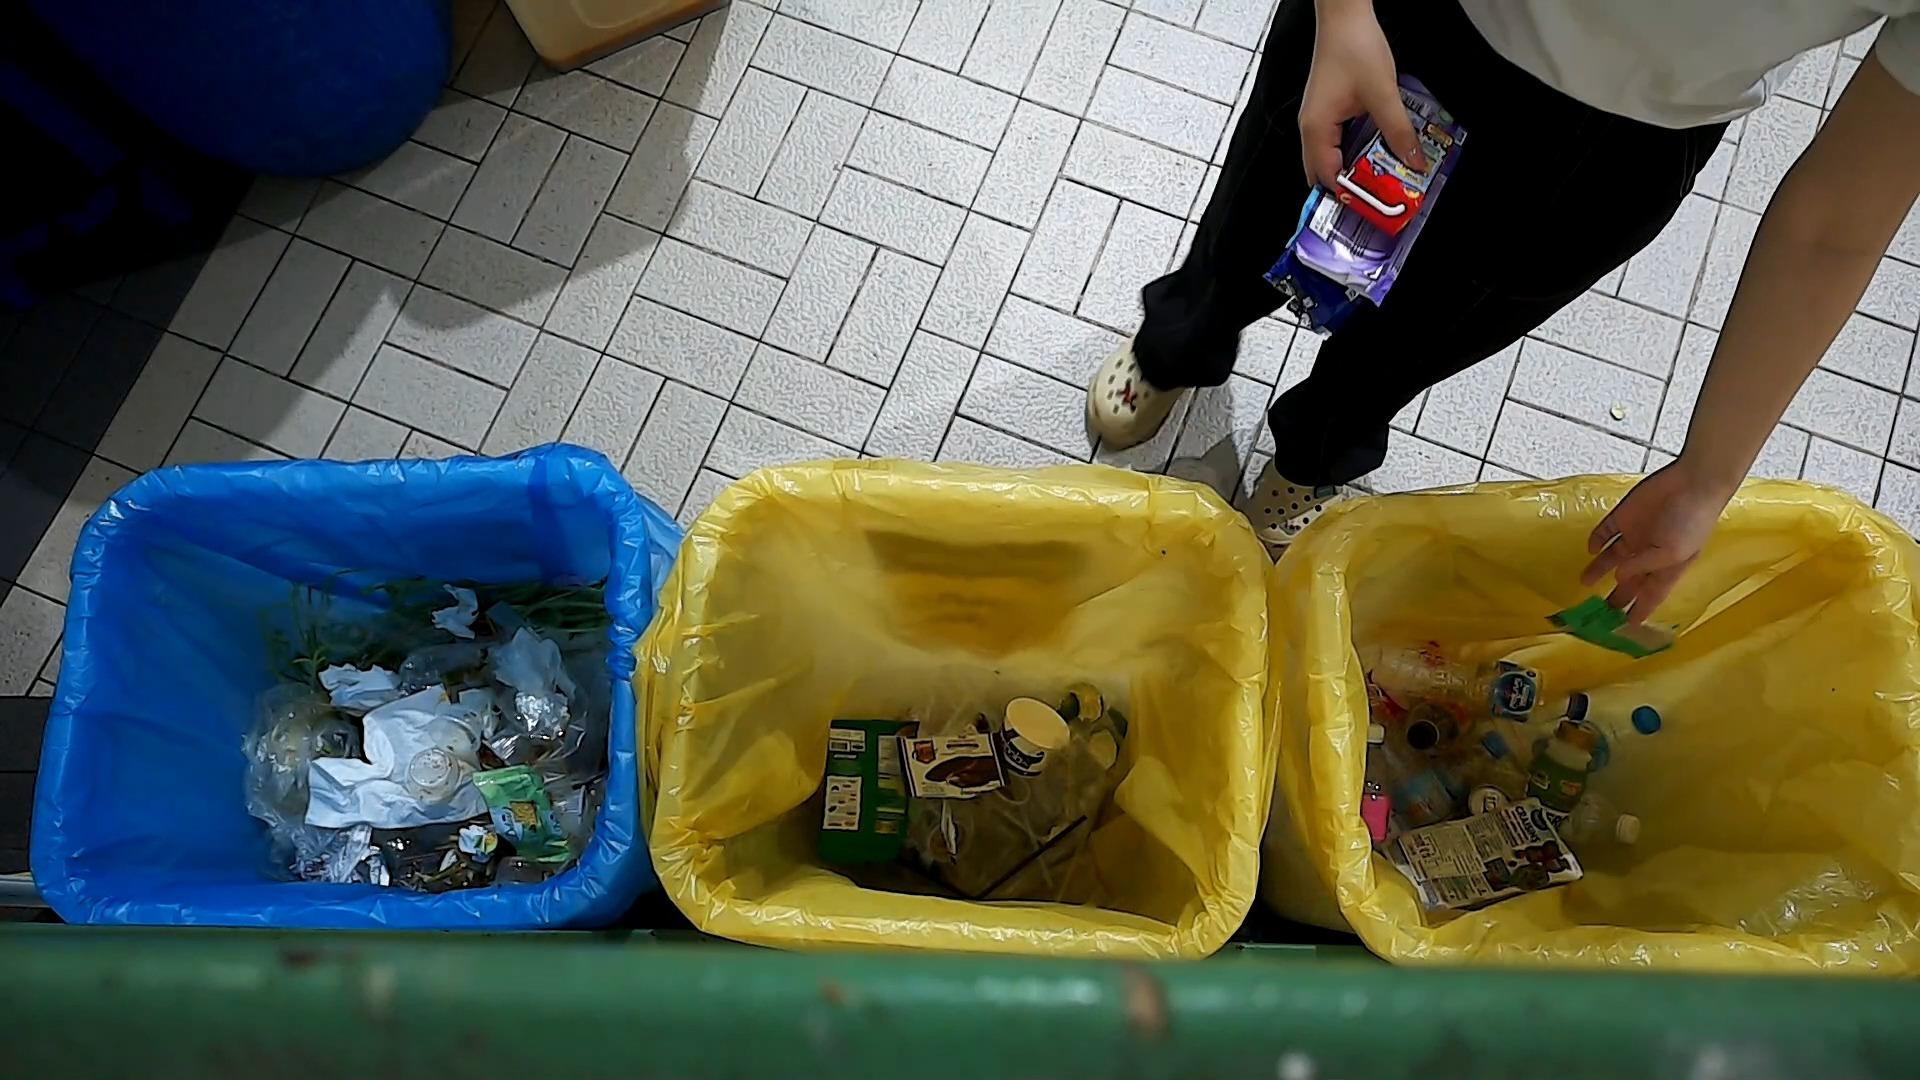can: (1465, 783, 1511, 818)
filled plastic bag: (235, 676, 384, 885)
food container: (990, 694, 1075, 779), (422, 705, 484, 767), (402, 744, 464, 806), (545, 783, 596, 840), (920, 815, 971, 866), (986, 766, 1033, 815), (491, 852, 545, 889)
milk carton: (1328, 103, 1460, 237)
plastic bottle: (1370, 632, 1593, 725), (1394, 727, 1513, 819), (1518, 719, 1601, 832), (1580, 700, 1664, 766), (1400, 694, 1476, 758), (1360, 721, 1393, 849)
snack packaging: (1263, 183, 1412, 328), (1398, 799, 1584, 911), (812, 720, 919, 865), (1545, 585, 1680, 667), (469, 767, 572, 858), (893, 729, 1009, 804)
straw: (973, 811, 1091, 902)
tissue paper: (301, 684, 493, 828), (315, 661, 409, 712), (495, 628, 563, 698), (430, 580, 477, 640), (458, 820, 496, 860)
